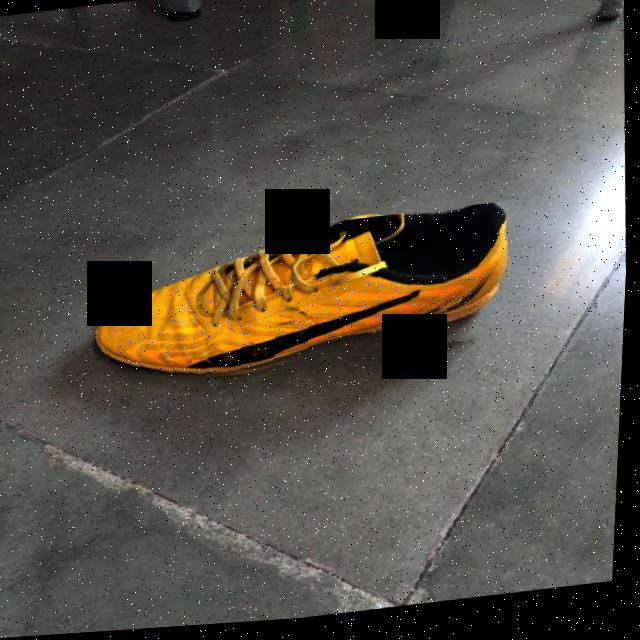shoe: (90, 207, 525, 398)
